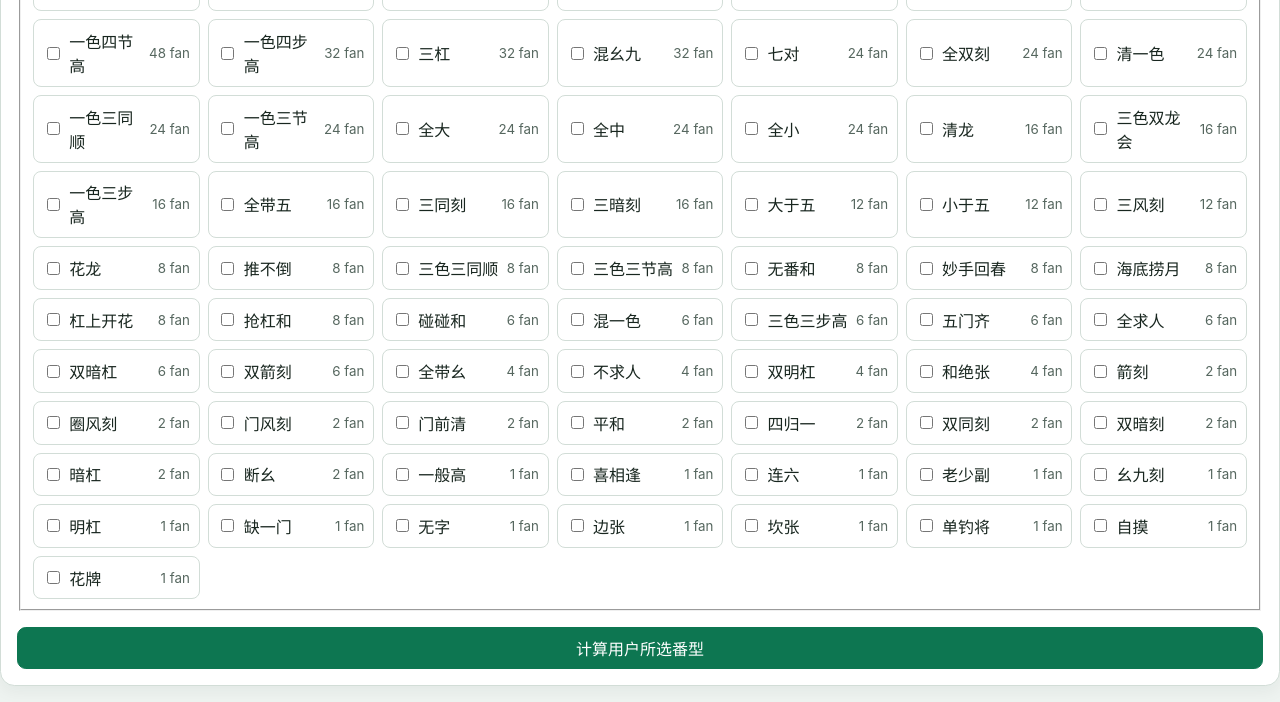
Scenario: QuickCalcPanel › shows relation exclusions and never exposes formal result actions
The image size is (1280, 702).
(page scrolled)
Click the checkbox labelled "边张 1 fan" at {"x": 577, "y": 526}, box [570,520,584,532]
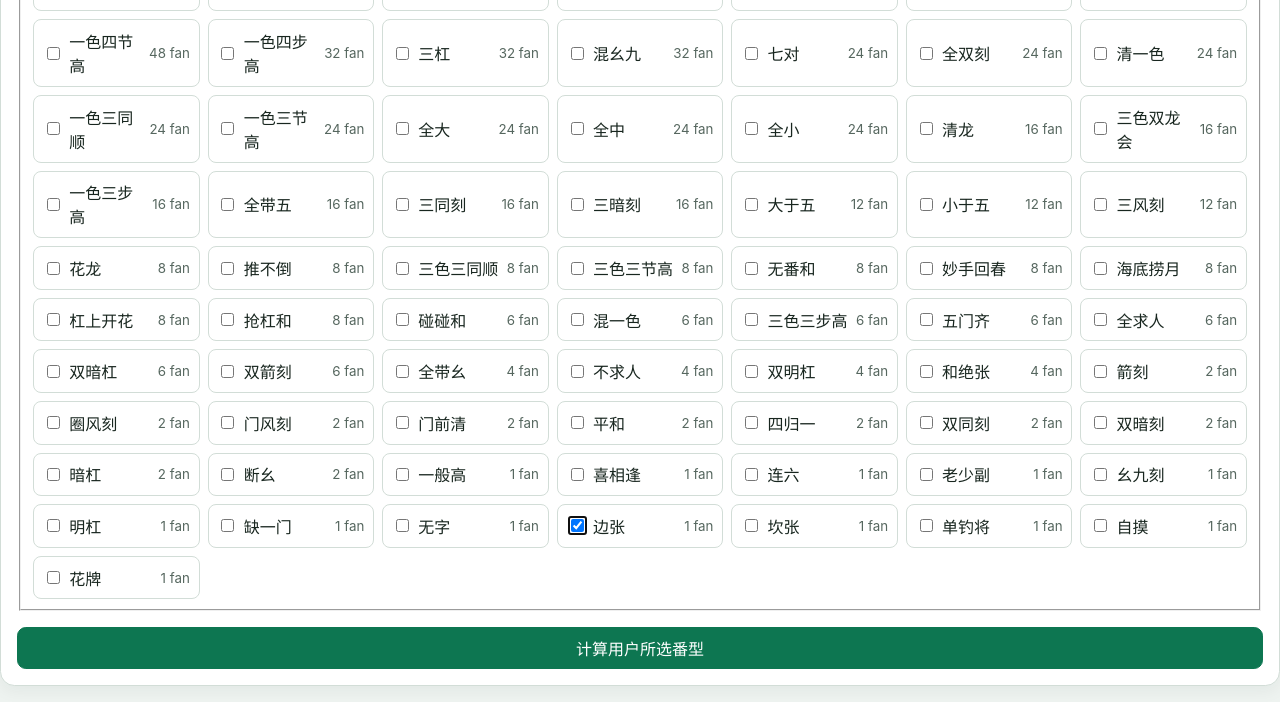
Click the checkbox labelled "单钓将 1 fan" at {"x": 926, "y": 526}, box [920,520,933,532]
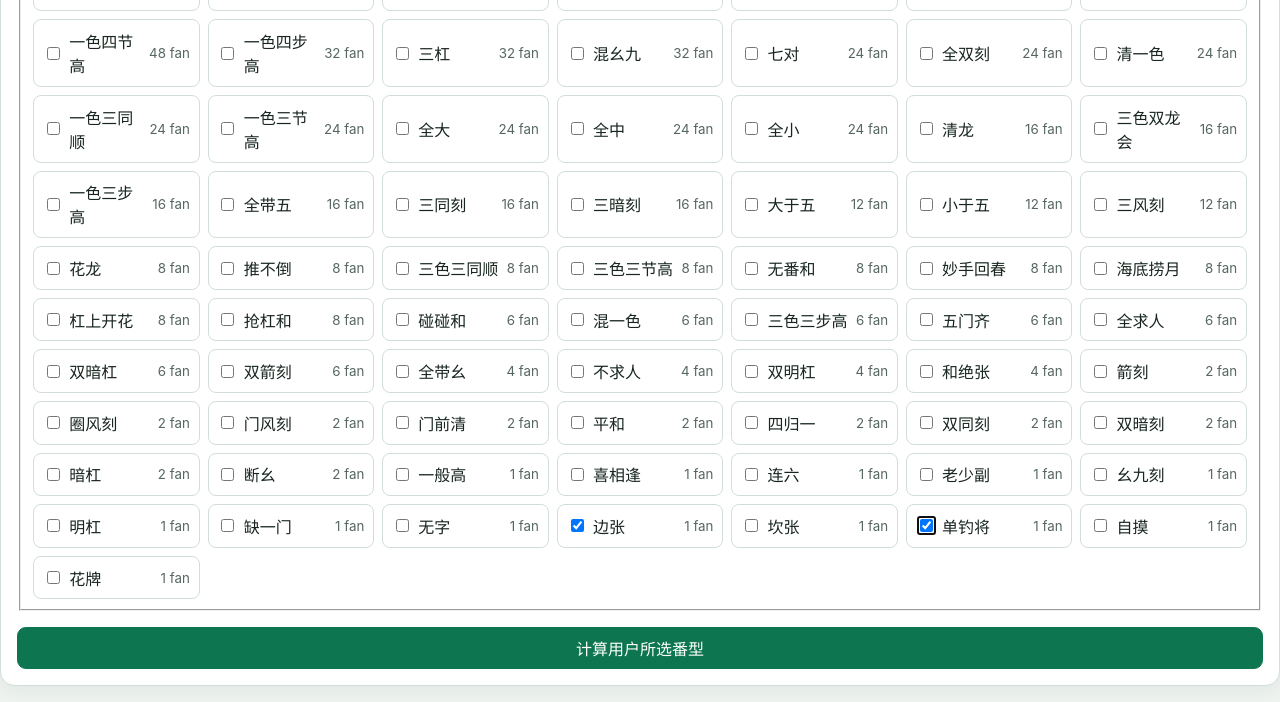
Click the button "计算用户所选番型" at {"x": 640, "y": 648}, box [17,627,1263,669]
(page scrolled)
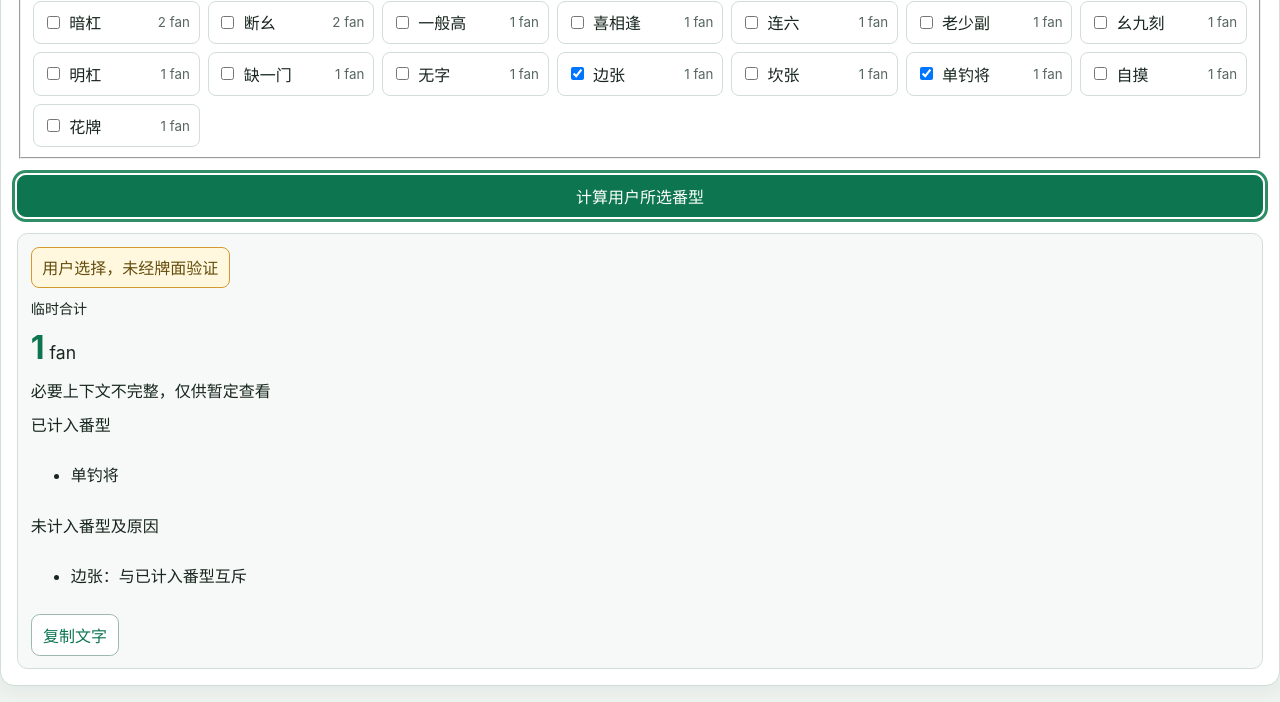
expect the list item "边张：与已计入番型互斥" is shown: met, box [71,566,247,586]
expect the button "复制文字" is enabled: met
Click the button "复制文字" at {"x": 75, "y": 635}, box [31,614,119,656]
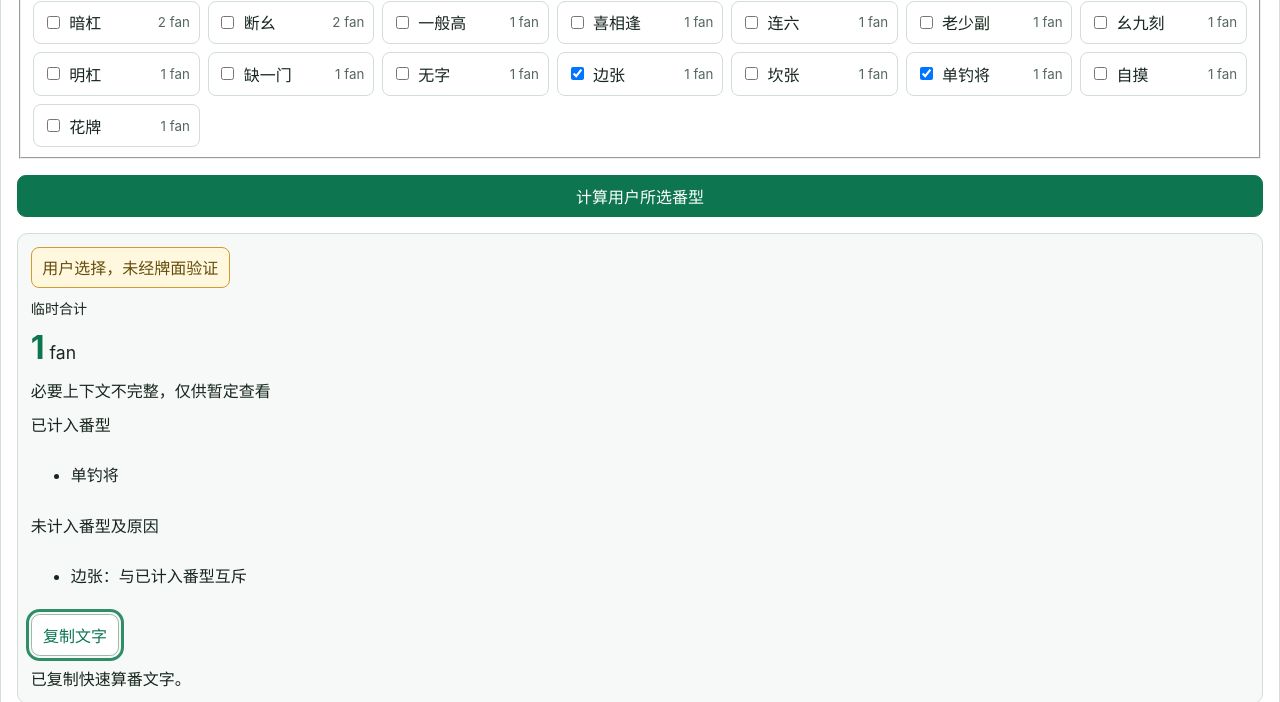
expect the message shows "已复制快速算番文字": met, box [31,669,191,689]
